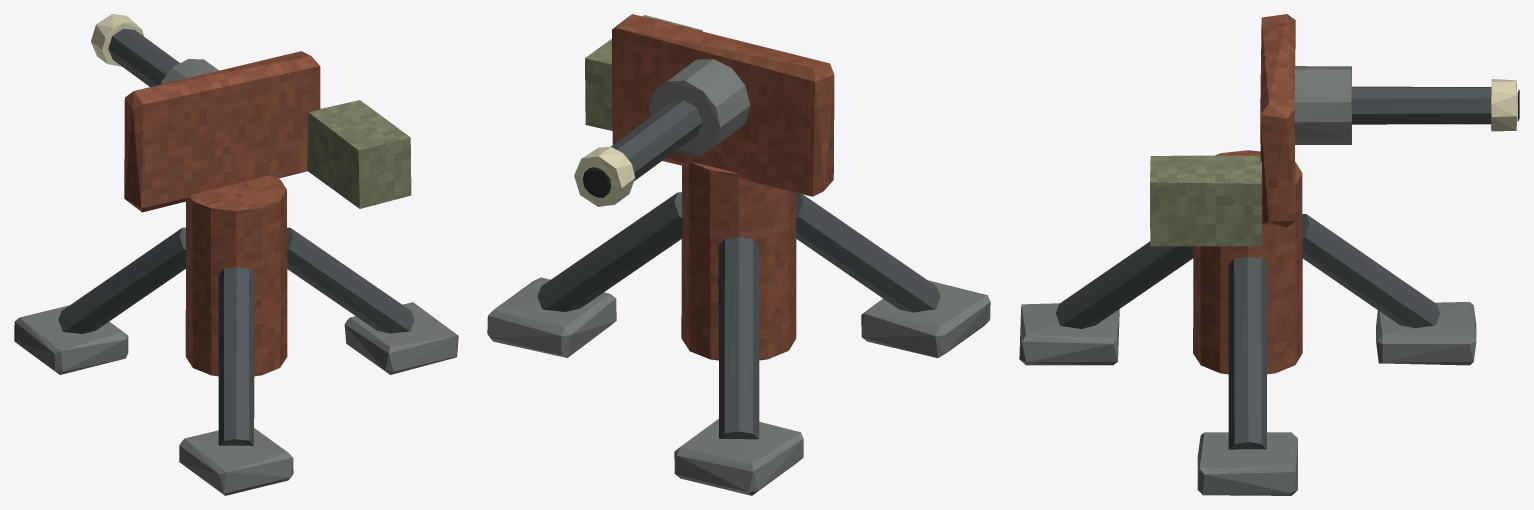
The picture shows the model from 3 angles, left to right: view 1: azimuth 30°, elevation 25°; view 2: azimuth 150°, elevation 25°; view 3: azimuth 270°, elevation 25°; orthographic projection. The views are drawn at different scales.
Visible parts, largest first — view 1: ST2-E05_Mesh, TurretYaw_Mesh, BarrelRecoil_Mesh; view 2: ST2-E05_Mesh, TurretYaw_Mesh, BarrelRecoil_Mesh; view 3: ST2-E05_Mesh, TurretYaw_Mesh, BarrelRecoil_Mesh.
Part boxes in pixels (x1=…): ST2-E05_Mesh: x1=14, y1=175, x2=458, y2=495; TurretYaw_Mesh: x1=124, y1=51, x2=411, y2=212; BarrelRecoil_Mesh: x1=91, y1=14, x2=218, y2=86; ST2-E05_Mesh: x1=487, y1=162, x2=990, y2=495; TurretYaw_Mesh: x1=585, y1=14, x2=834, y2=196; BarrelRecoil_Mesh: x1=574, y1=59, x2=750, y2=206; ST2-E05_Mesh: x1=1019, y1=150, x2=1476, y2=495; TurretYaw_Mesh: x1=1150, y1=14, x2=1295, y2=246; BarrelRecoil_Mesh: x1=1294, y1=66, x2=1519, y2=144.
Size of the model in its own units: 2.4 by 2.2 by 2.99.
Materials: 6 (2 with a texture image).
